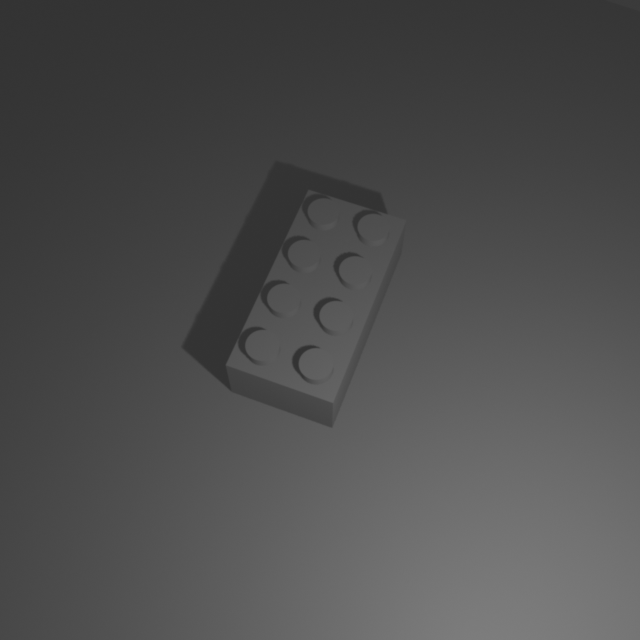lego_2x4: (225, 183, 407, 428)
